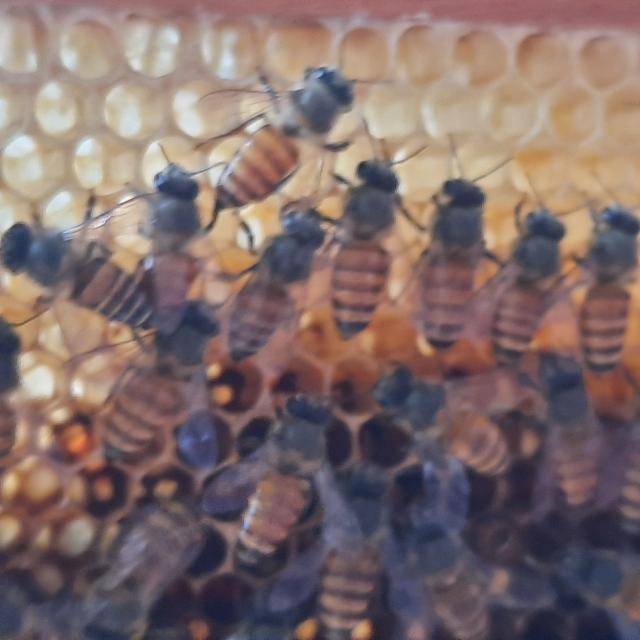honeybee: (268, 473, 420, 640), (0, 210, 161, 344), (212, 392, 349, 544), (192, 70, 338, 206), (387, 515, 541, 640), (366, 363, 524, 481), (68, 493, 192, 640), (112, 150, 218, 319), (96, 312, 217, 459), (223, 200, 323, 355), (520, 348, 616, 504), (329, 155, 400, 340), (418, 181, 482, 353), (575, 212, 640, 365), (490, 206, 552, 354), (597, 397, 640, 549)
